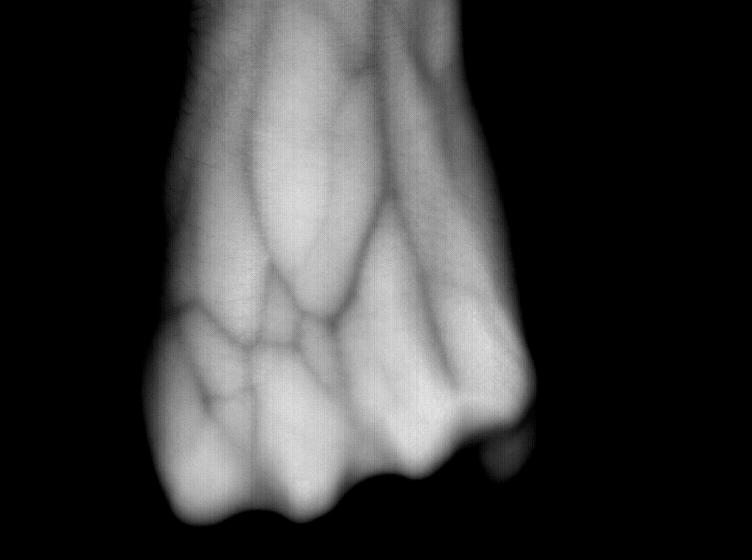Vein: (334, 23, 438, 329)
